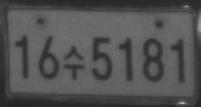1: (13, 34, 34, 80), (116, 37, 137, 81), (169, 38, 188, 83)
5: (91, 36, 113, 81)
6: (38, 36, 59, 79)
8: (141, 37, 165, 81)
수: (63, 45, 84, 80)
